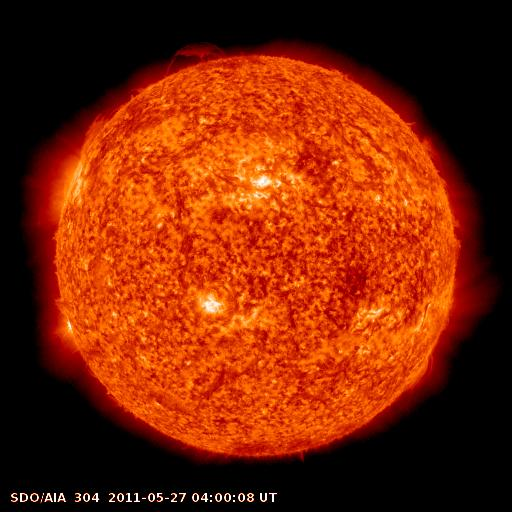prominence: (397, 118, 452, 193), (154, 33, 236, 79), (74, 98, 128, 150), (397, 352, 442, 406), (443, 209, 471, 268), (47, 291, 78, 327)
